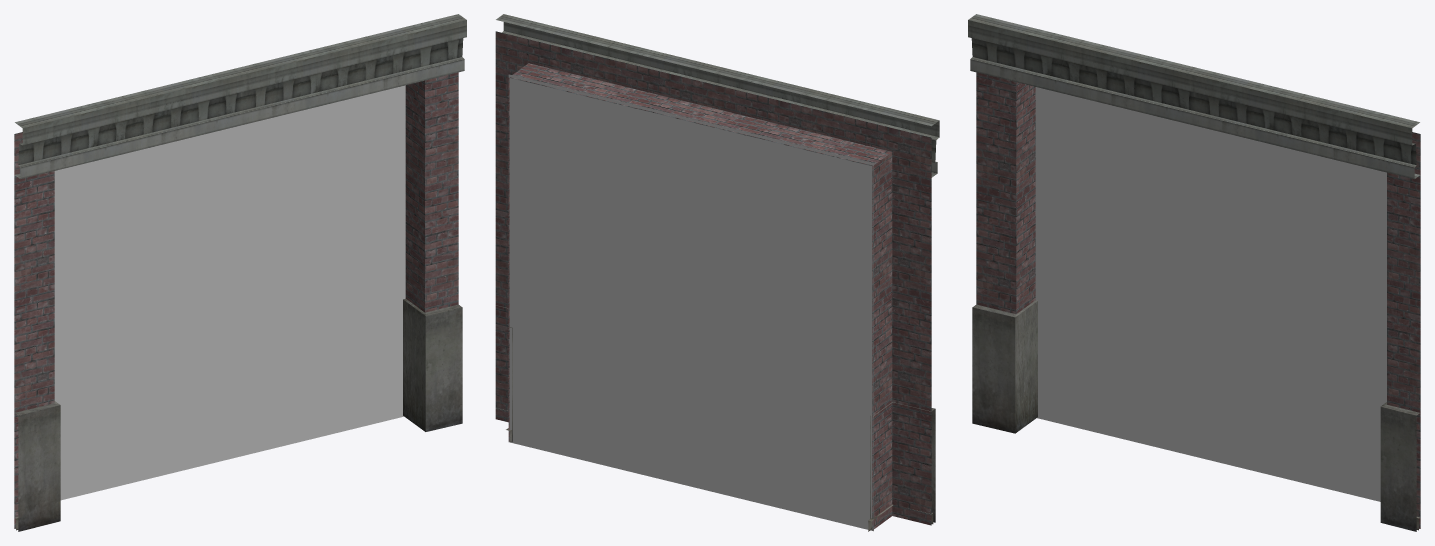
The model's file is Wall_C_Brick_DoorsHigh_4x.FBX.
3 renders of one model, left to right at view 1: azimuth 30°, elevation 25°; view 2: azimuth 150°, elevation 25°; view 3: azimuth 330°, elevation 25°, orthographic.
Parts seen in each view (by area): view 1: Wall_C_Brick_DoorsHigh_4x; view 2: Wall_C_Brick_DoorsHigh_4x; view 3: Wall_C_Brick_DoorsHigh_4x.
Part boxes in pixels (left/top/right/bottom): Wall_C_Brick_DoorsHigh_4x: left=14, top=14, right=466, bottom=531; Wall_C_Brick_DoorsHigh_4x: left=495, top=14, right=939, bottom=531; Wall_C_Brick_DoorsHigh_4x: left=968, top=14, right=1420, bottom=531.
Bounding box in the file's own units: 400 × 351 × 48.3.
